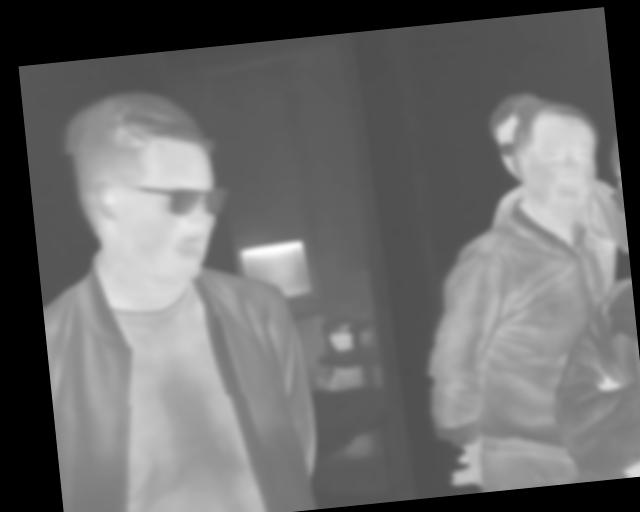face: (56, 81, 230, 290), (508, 96, 605, 225)
